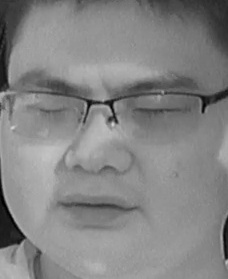blink: (132, 102, 177, 122), (38, 102, 71, 118)
glass: (108, 88, 199, 141), (5, 87, 88, 144)
mouth: (58, 187, 138, 229)
